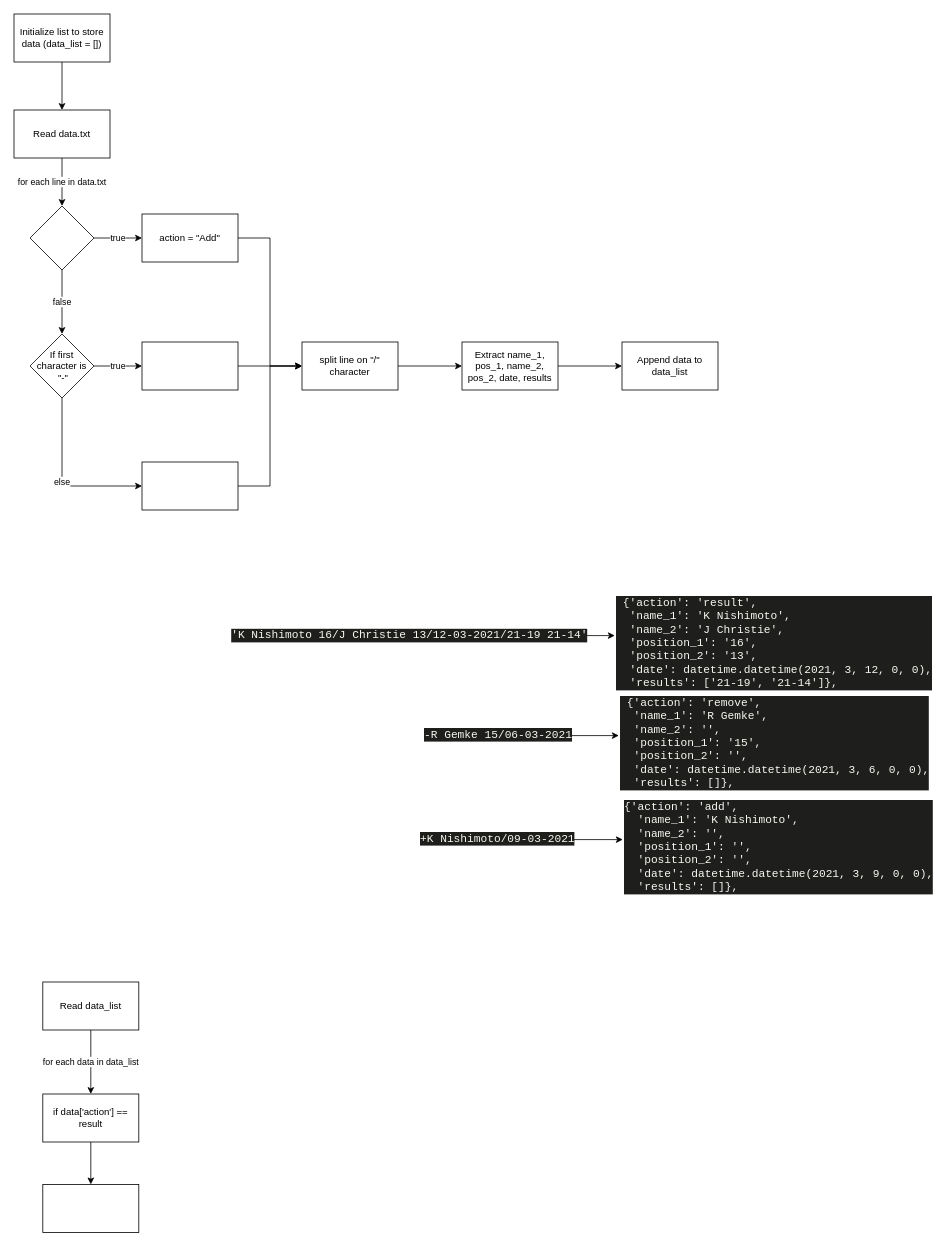
Image size: 947x1246. Some labels were removed from this diagram. The box of each missing label's shape, as (x1, y1, x2, y2) in pixels:
action = "Remove": (141, 341, 238, 390)
action = "Result": (141, 461, 238, 510)
Display data on tree view widget: (42, 1184, 139, 1232)
If first character is "+": (29, 205, 94, 270)
